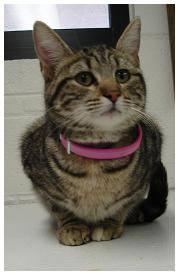cat: (21, 17, 167, 245)
